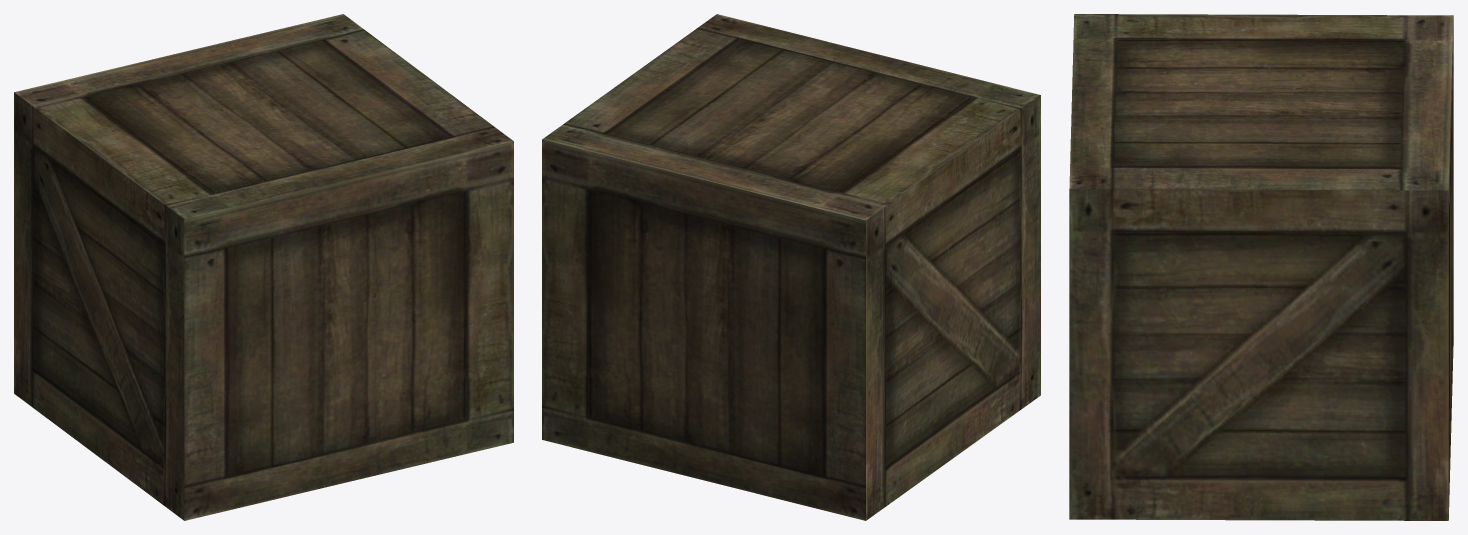
File: thing_cagobox00.fbx
3 renders of one model, left to right at view 1: azimuth 30°, elevation 25°; view 2: azimuth 150°, elevation 25°; view 3: azimuth 270°, elevation 25°, orthographic. The views are drawn at different scales.
Parts seen in each view (by area): view 1: thing_cagobox00; view 2: thing_cagobox00; view 3: thing_cagobox00.
Boxes of the visible parts, box(x1,y1,x2,y2) form: thing_cagobox00: box(14, 14, 513, 520); thing_cagobox00: box(542, 14, 1040, 520); thing_cagobox00: box(1069, 14, 1453, 520).
Bounding box in the file's own units: 1.09 × 0.9537 × 1.
